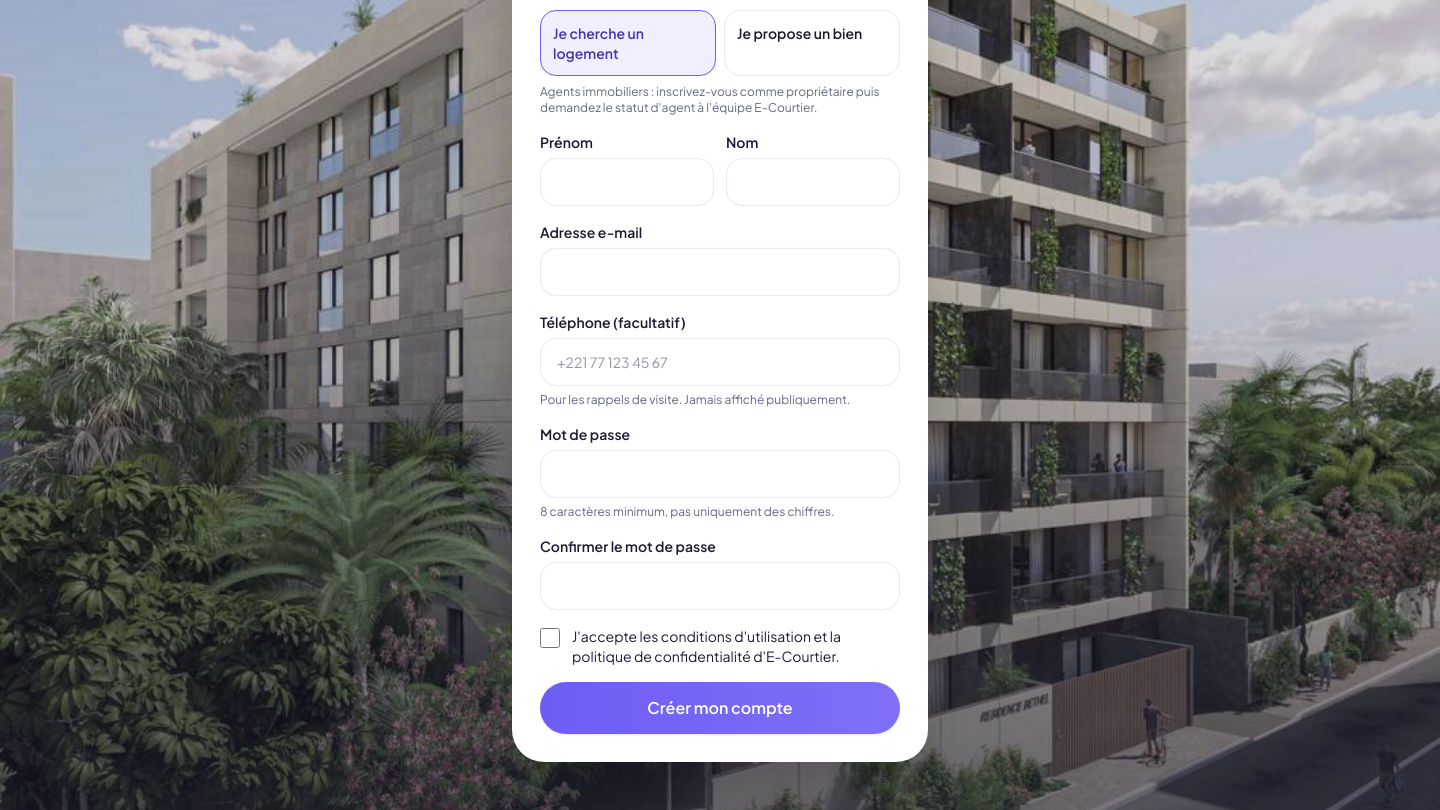
Inscription › valide les champs et ne propose jamais le rôle administrateur
(page scrolled)
Expected: the radio button "Je cherche un logement" is shown, [540,10,716,76]
Click the button "Créer mon compte". click: x=720, y=708
box: [540,682,900,734]
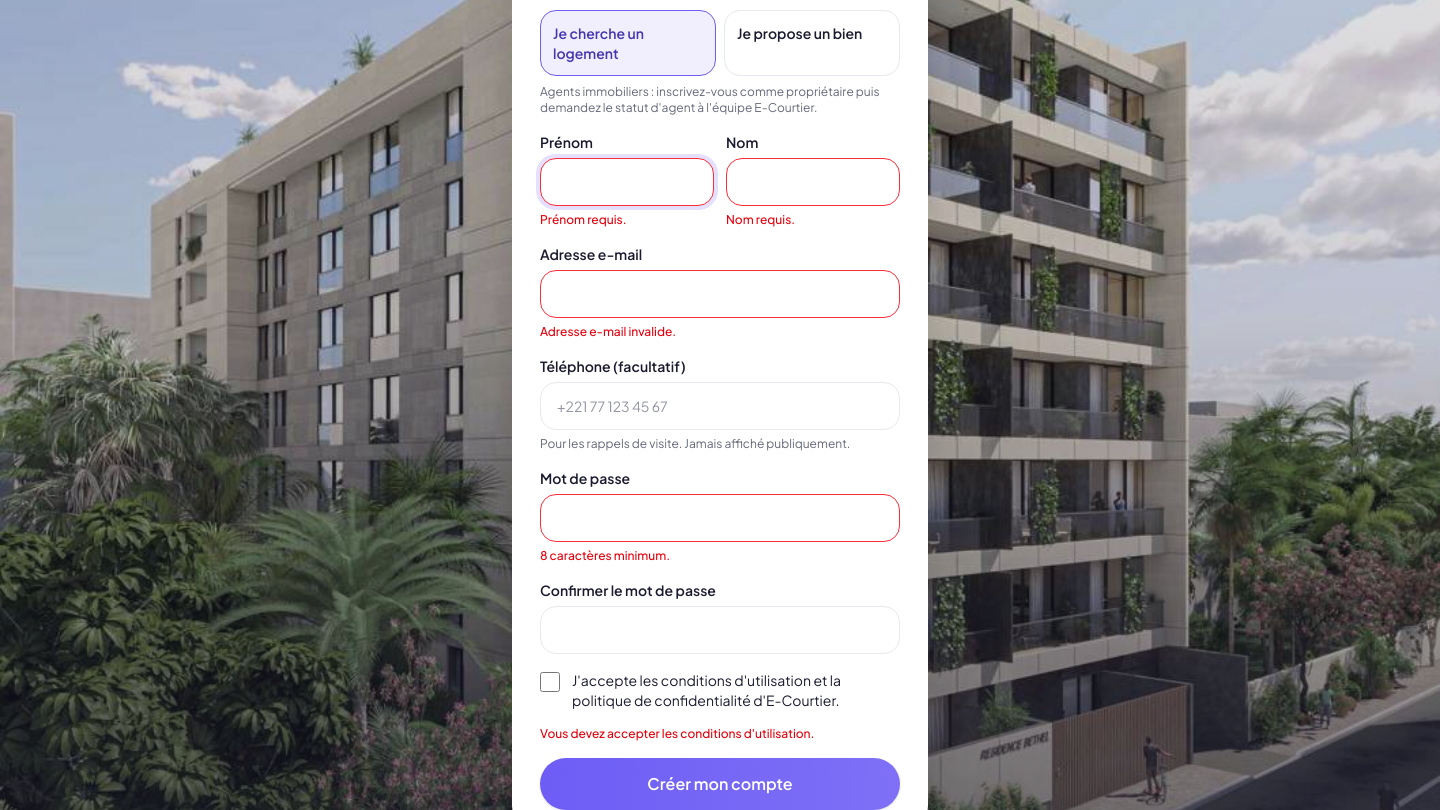
Now the text "Prénom requis." is shown, box [540,212,626,227]
Now the text "Vous devez accepter les conditions d'utilisation." is shown, box [540,726,814,741]
